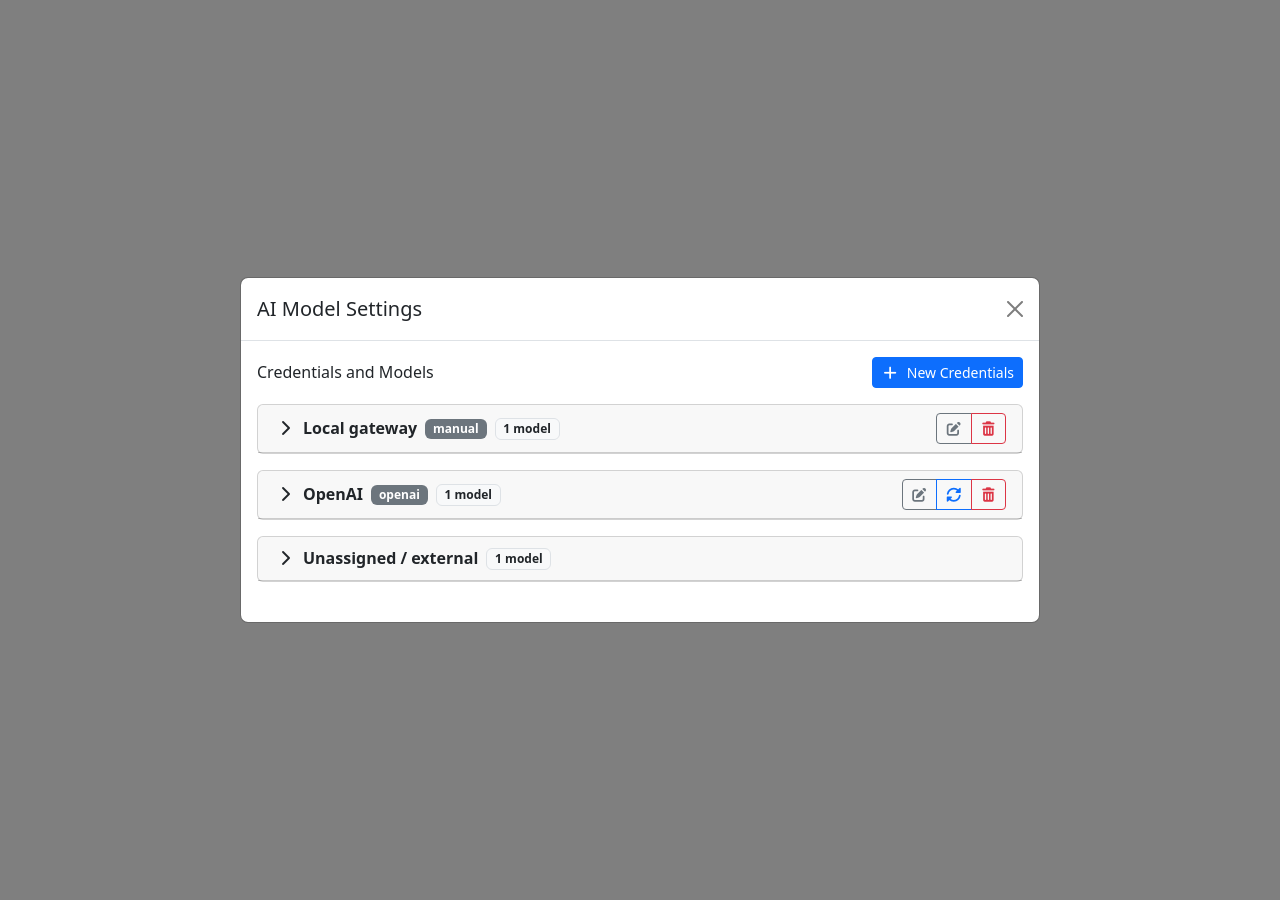
Test: Settings › groups models by credential in expandable credential cards
expect the button "OpenAI openai 1 model" is shown: met, box [274, 481, 902, 508]
expect the button "Unassigned / external 1 model" is shown: met, box [274, 545, 1006, 572]
Click the button "Local gateway manual 1 model" at (360, 428), box [274, 415, 936, 442]
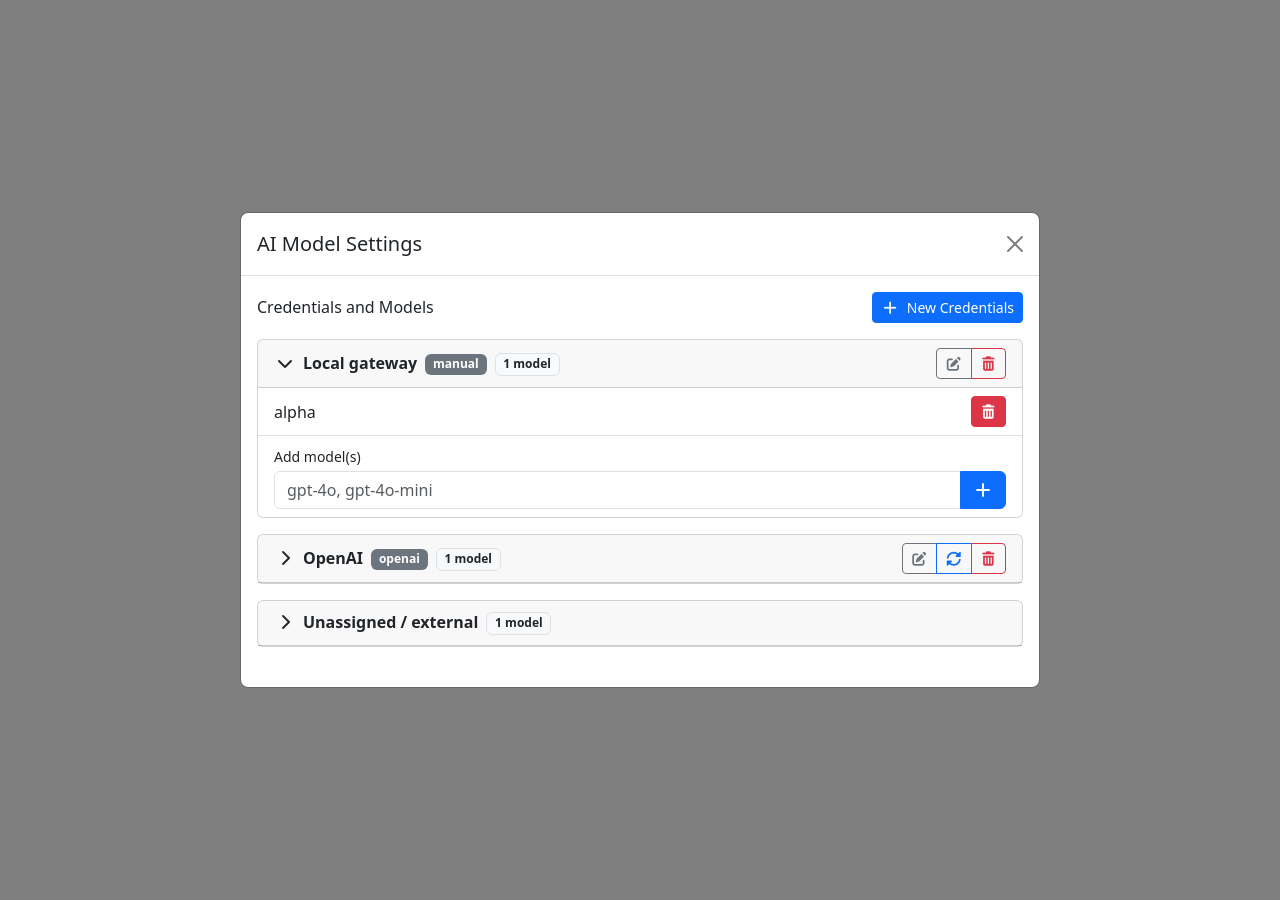
expect the text "alpha" is shown: met, box [274, 400, 316, 424]
